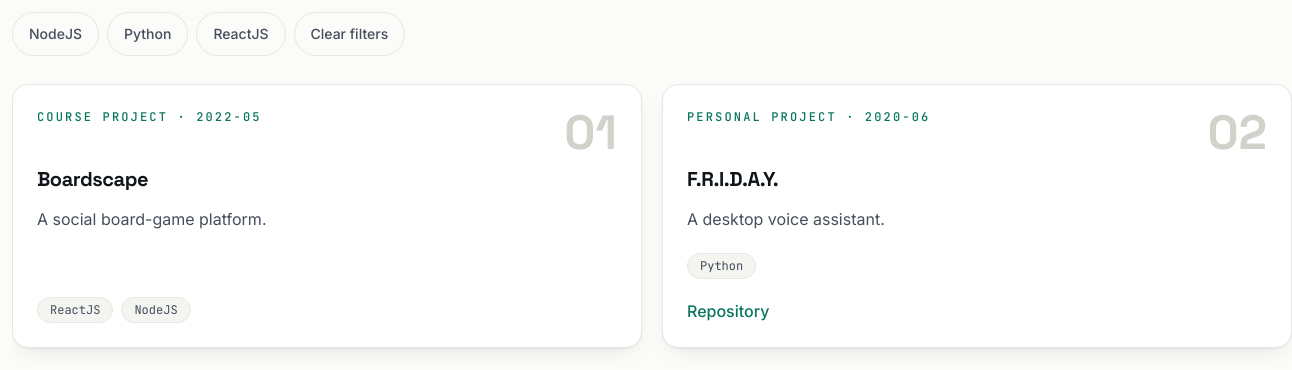
Test case: ProjectGallery › filters by technologies already present in project content and resets
Click the button "ReactJS".
click(241, 34)  # box [196,12,286,56]
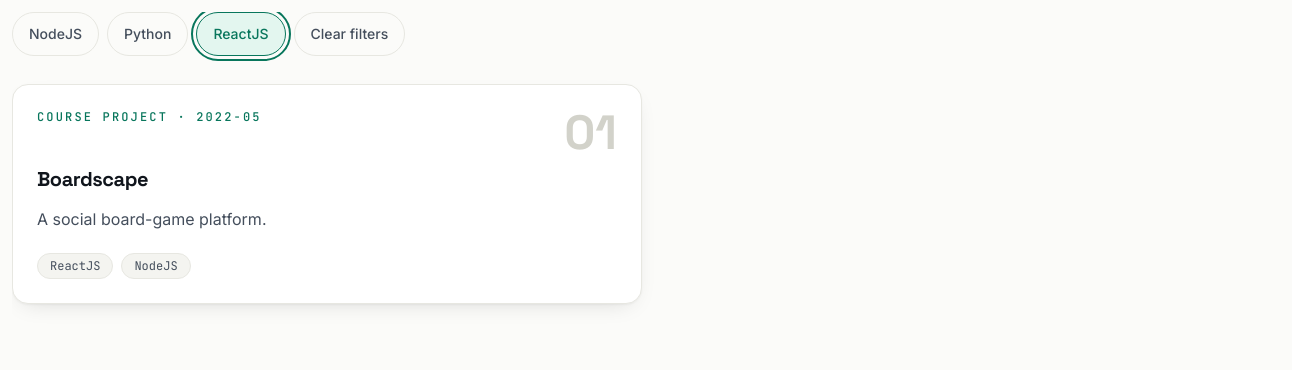
Check: the heading "Boardscape" is shown, box [37,166,148,192]
Check: the heading "F.R.I.D.A.Y." is gone
Click the button "Clear filters".
click(349, 34)  # box [294,12,405,56]
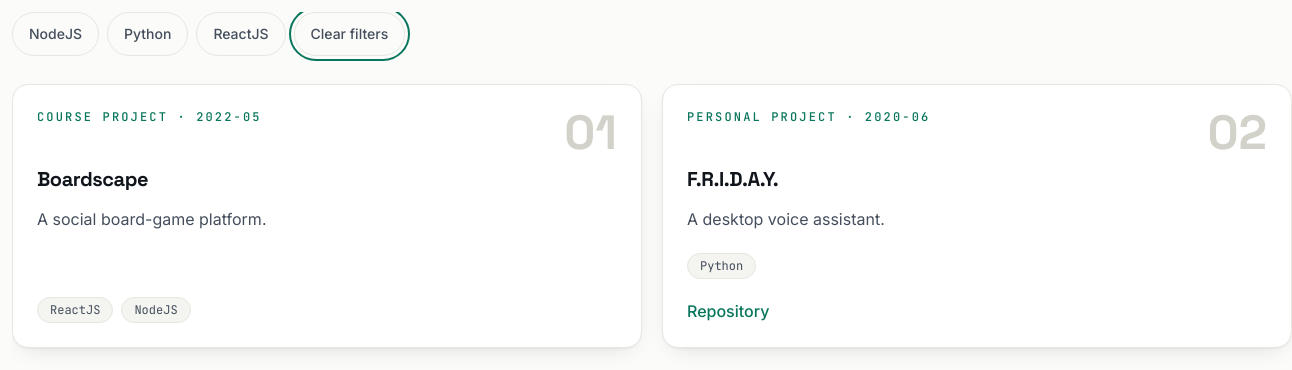
Check: the heading "F.R.I.D.A.Y." is shown, box [687,166,778,192]
